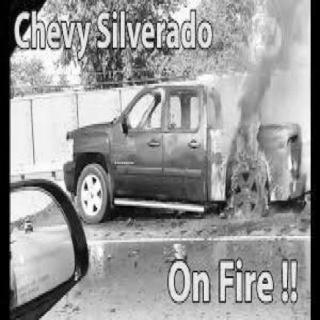Fire: (236, 100, 272, 212)
